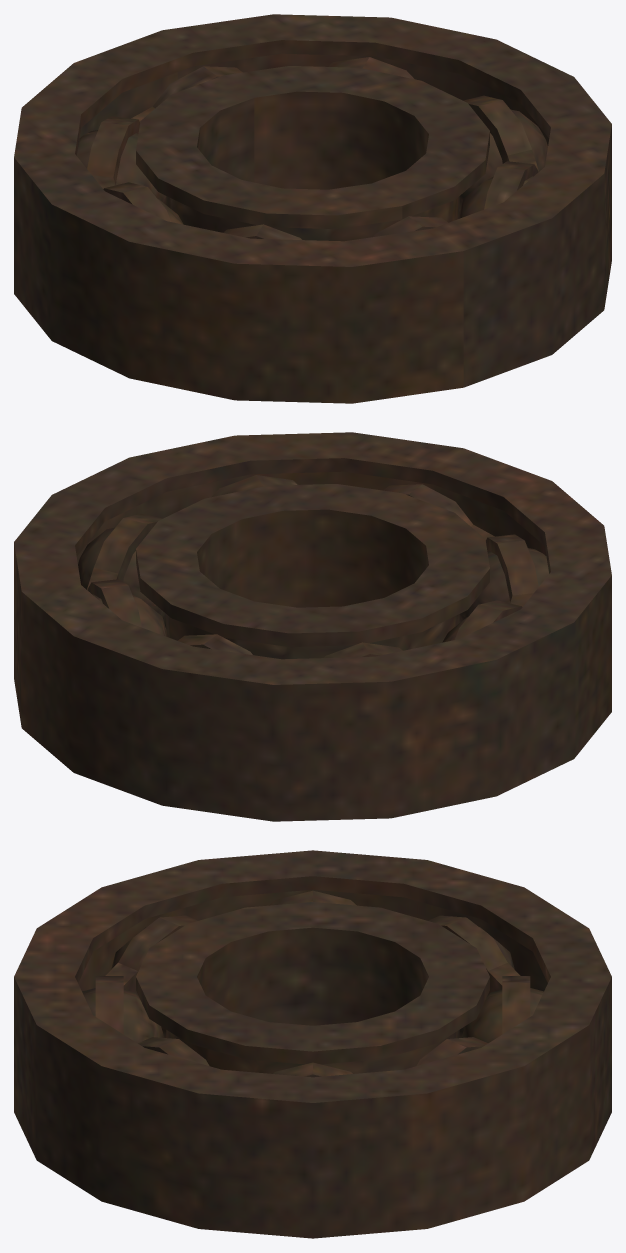
File: ball_bearing_mx_1_large.obj
3 views of the same model, one above another, from view 1: azimuth 30°, elevation 25°; view 2: azimuth 150°, elevation 25°; view 3: azimuth 270°, elevation 25° (orthographic).
Parts seen in each view (by area): view 1: ball_bearing_mx_1_large; view 2: ball_bearing_mx_1_large; view 3: ball_bearing_mx_1_large.
Boxes of the visible parts, x1,y1,x2,y2 form: ball_bearing_mx_1_large: [14, 14, 611, 403]; ball_bearing_mx_1_large: [14, 432, 611, 821]; ball_bearing_mx_1_large: [14, 850, 611, 1238].
Bounding box in the file's own units: 0.2 × 0.05 × 0.2.
